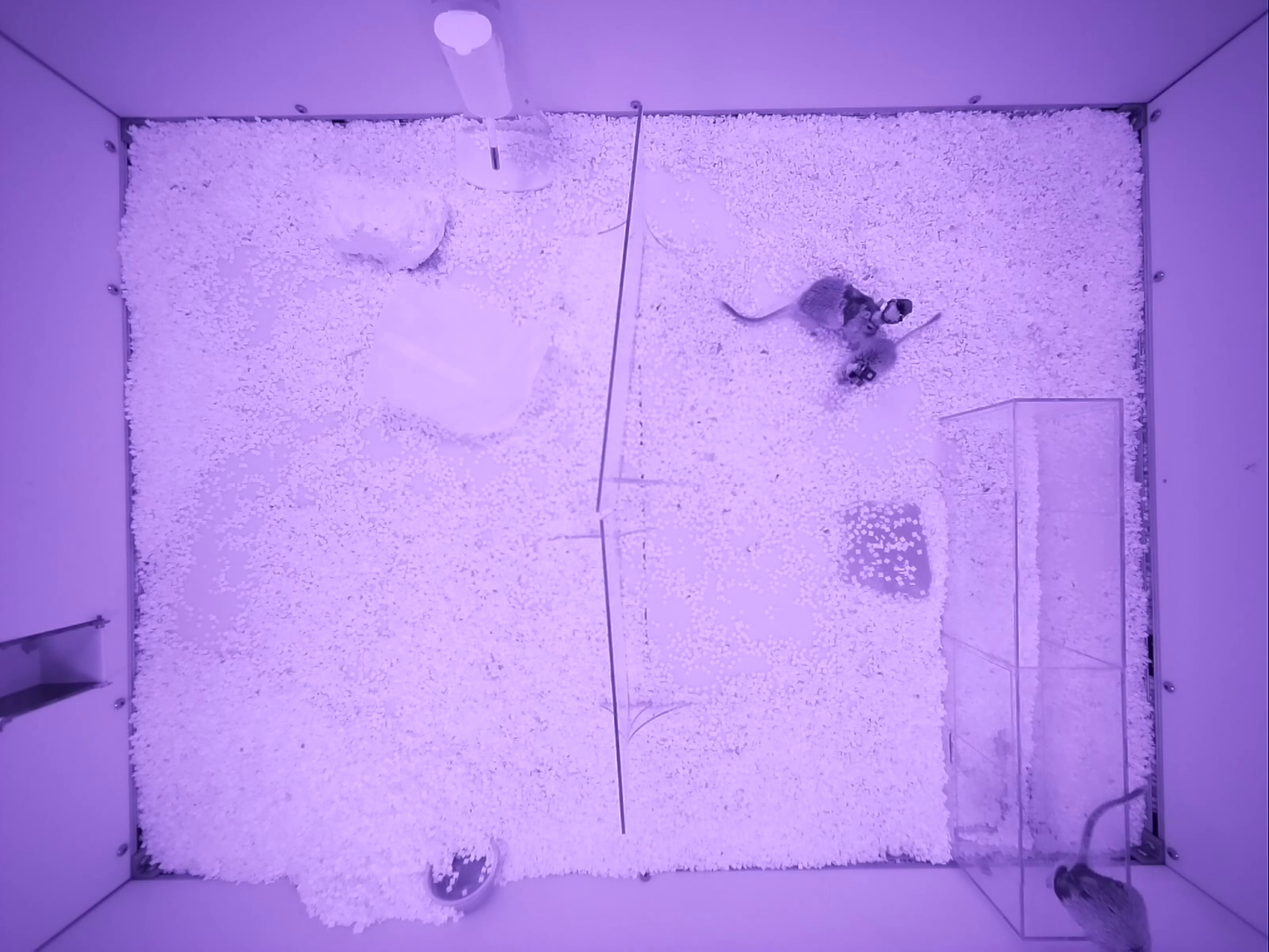adult_back: (1054, 786, 1150, 949), (719, 276, 882, 330), (838, 312, 941, 383)
